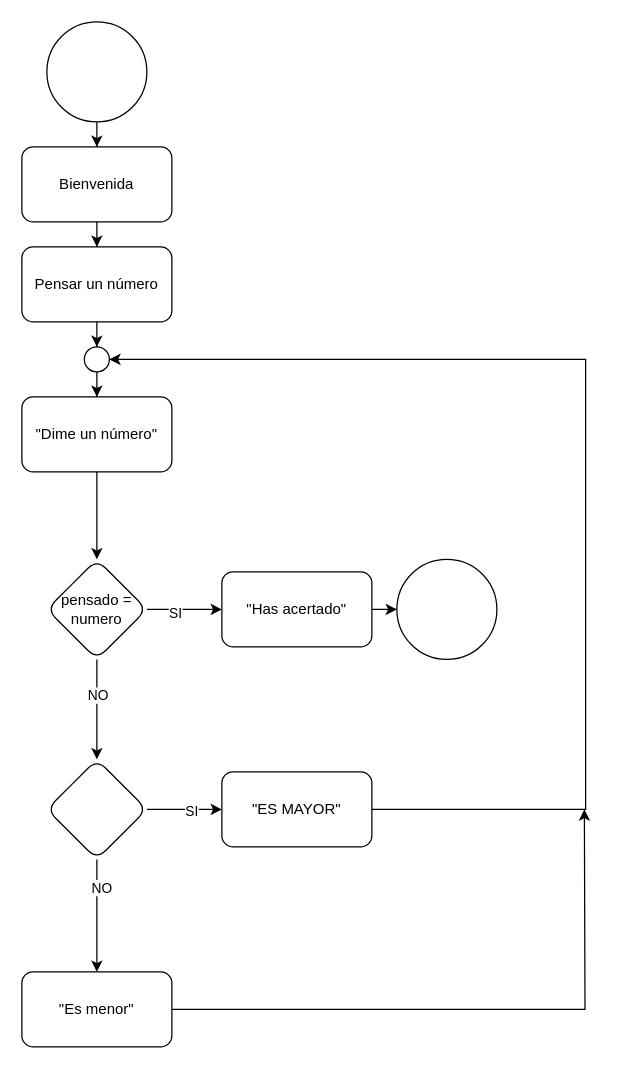
This 618x1069 diagram has some shape labels left out. Each missing label, with the centre of its shape:
FIN: the point at 446,608
Inicio: the point at 96,71
pensado > numero: the point at 96,808
